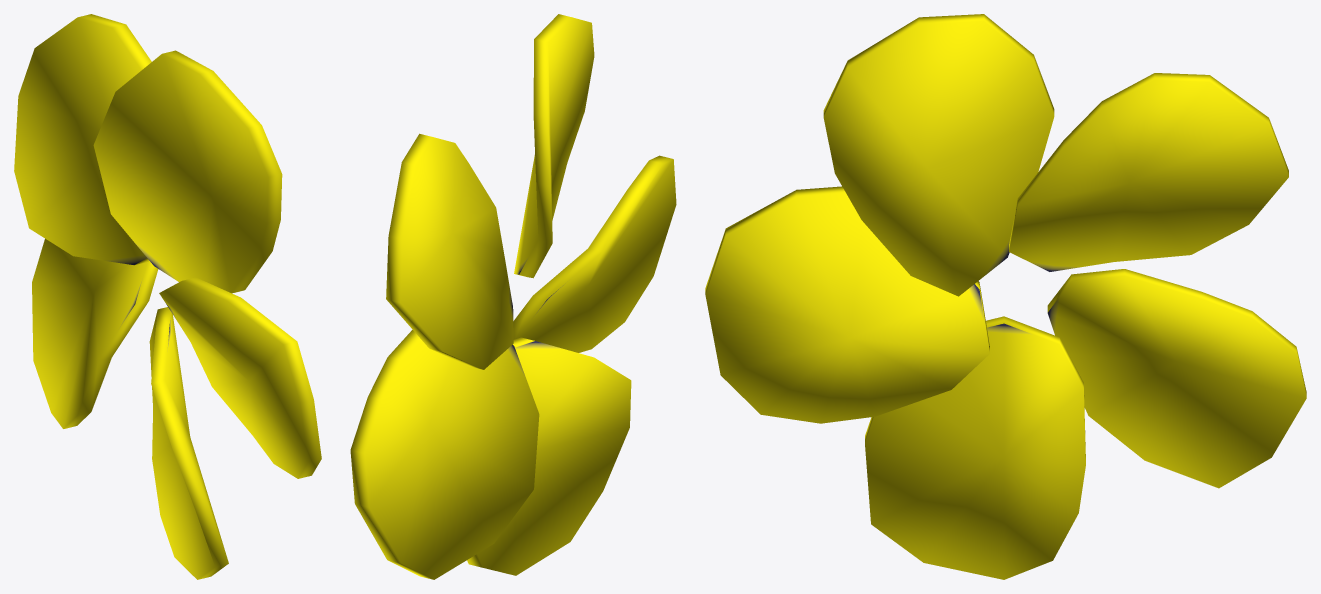
The model's file is submarine_propeller.obj.
3 renders of one model, left to right at view 1: azimuth 30°, elevation 25°; view 2: azimuth 150°, elevation 25°; view 3: azimuth 270°, elevation 25°, orthographic. The views are drawn at different scales.
Bounding box in the file's own units: 0.6357 × 3.55 × 3.53.
1 material, 1 textured.
